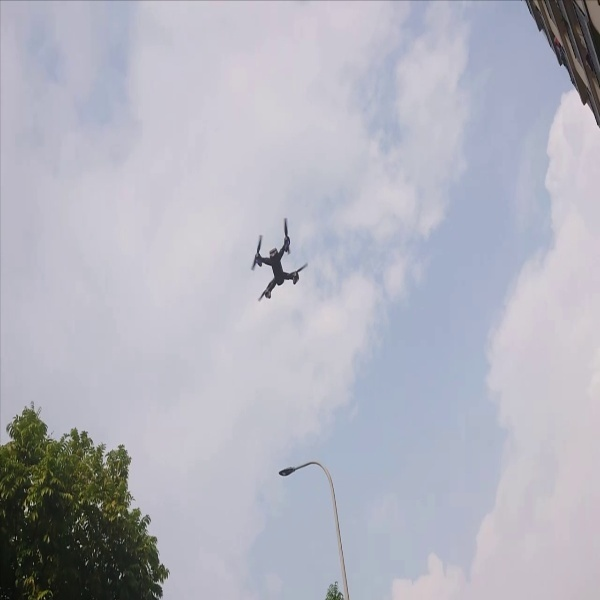drone: (236, 216, 312, 308)
